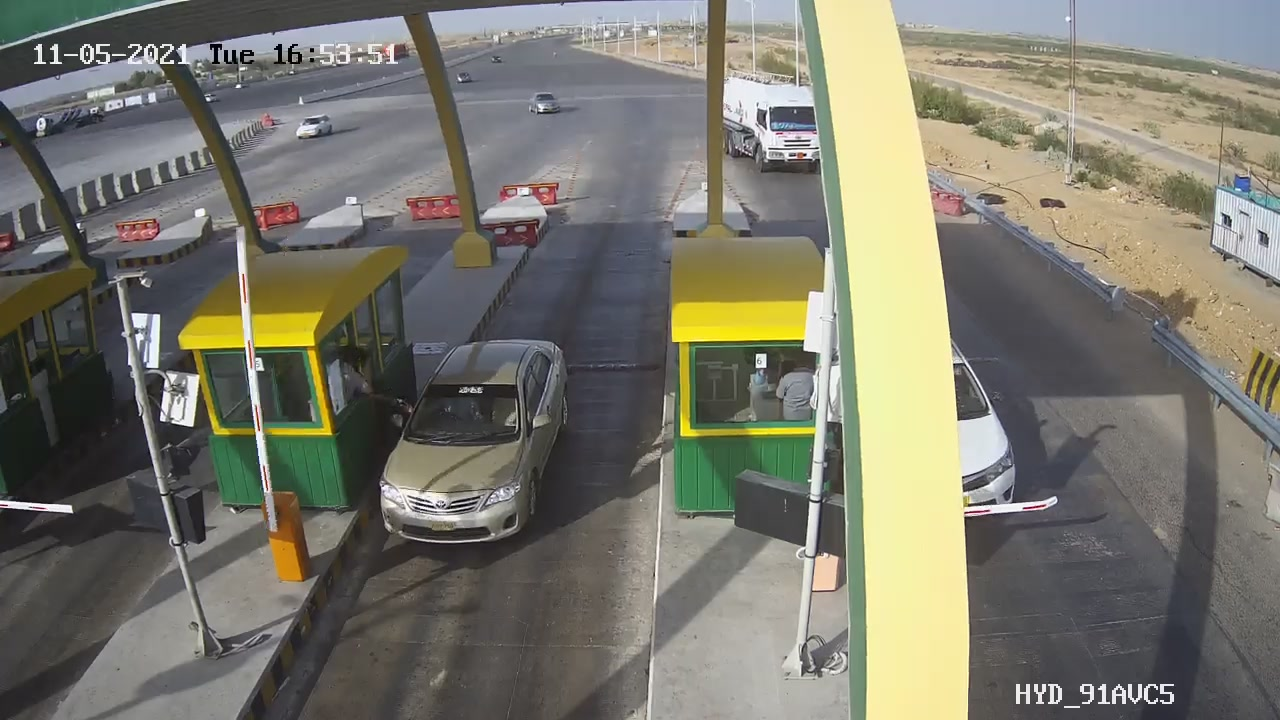F1: (357, 323, 597, 562)
